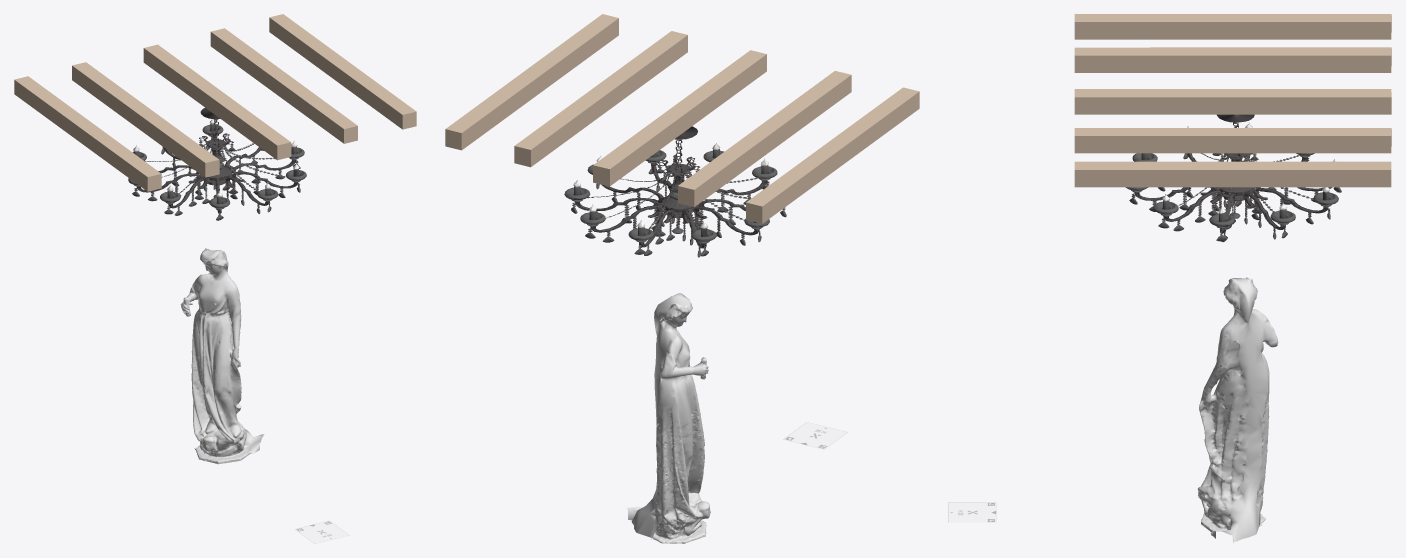
The model's file is project14.glb.
3 renders of one model, left to right at view 1: azimuth 30°, elevation 25°; view 2: azimuth 150°, elevation 25°; view 3: azimuth 270°, elevation 25°, orthographic. The views are drawn at different scales.
Parts seen in each view (by area): view 1: 14Nagy Veronika/Rákóczi Fanni/Méng Vanda, TRACK; view 2: 14Nagy Veronika/Rákóczi Fanni/Méng Vanda, TRACK; view 3: 14Nagy Veronika/Rákóczi Fanni/Méng Vanda, TRACK.
Boxes of the visible parts, <box> form: 14Nagy Veronika/Rákóczi Fanni/Méng Vanda: <box>14,14,416,464</box>; TRACK: <box>295,521,348,543</box>; 14Nagy Veronika/Rákóczi Fanni/Méng Vanda: <box>445,14,919,543</box>; TRACK: <box>783,422,847,448</box>; 14Nagy Veronika/Rákóczi Fanni/Méng Vanda: <box>1074,14,1391,542</box>; TRACK: <box>948,502,995,522</box>.
Bounding box in the file's own units: 3.84 × 4.88 × 4.61.
6 materials, 1 textured.
